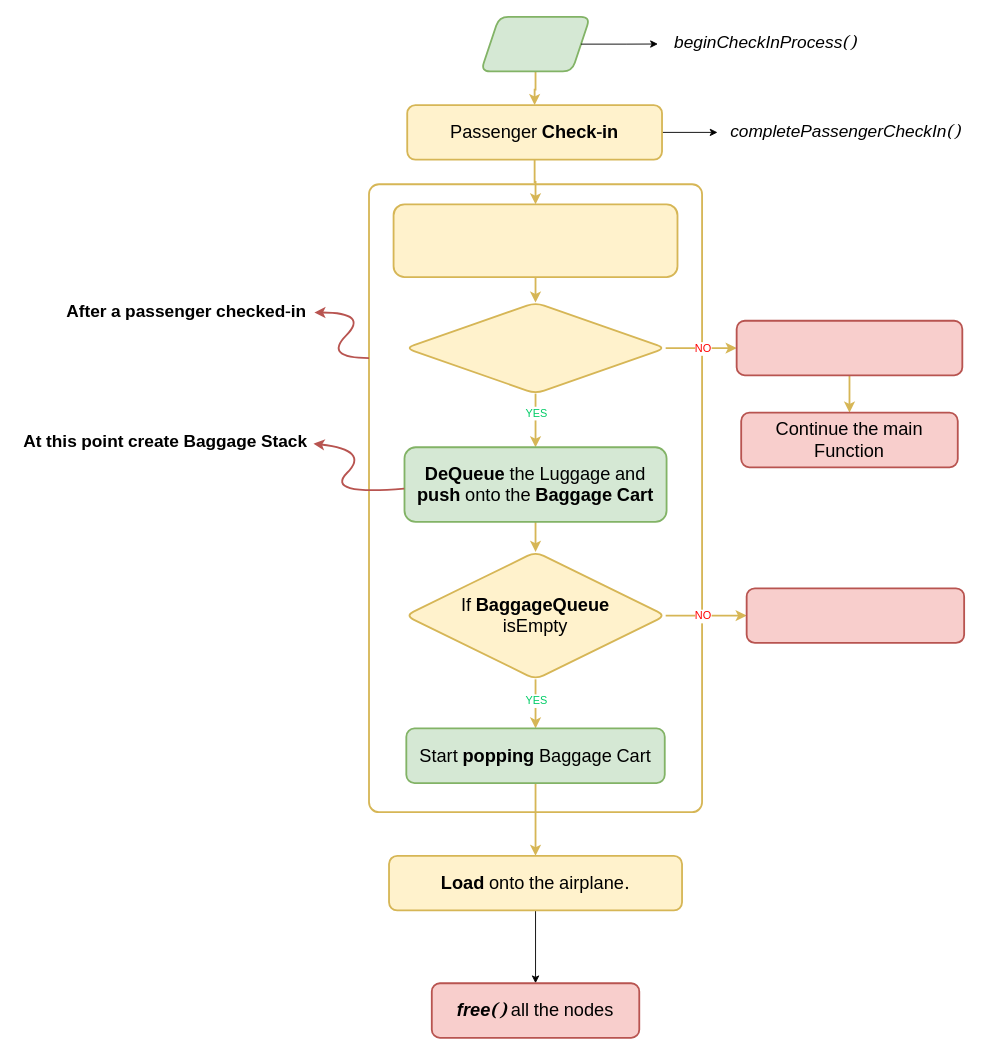
Some shapes in this 987 by 1054 pixel diagram are drawn without their labels. The shapes that lost their labels are listed below. From the top down, each one's box as (x1, y1, x2, y2) in pixels, then its label:
(480, 15, 591, 72): START
(392, 203, 678, 278): EnQueue the luggage onto the Baggage Queue .
(404, 301, 666, 394): If all Checked-in
(735, 319, 963, 376): Wait for all Checked-in
